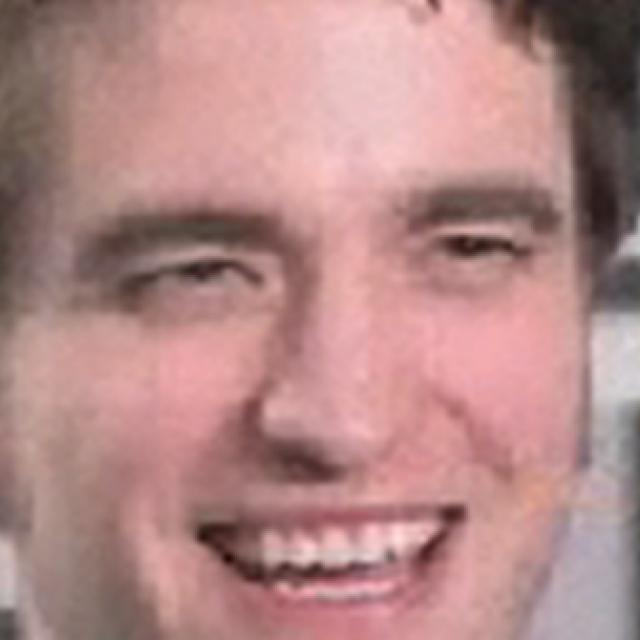Normal: (8, 0, 584, 638)
